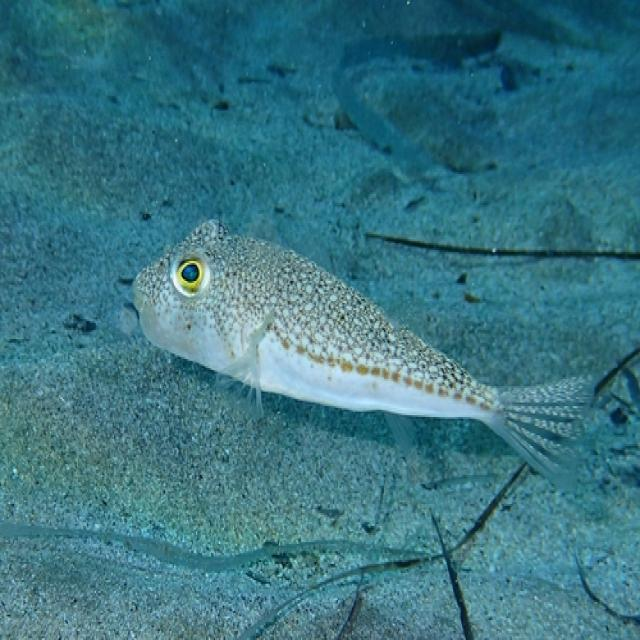Balik: (134, 222, 588, 482)
